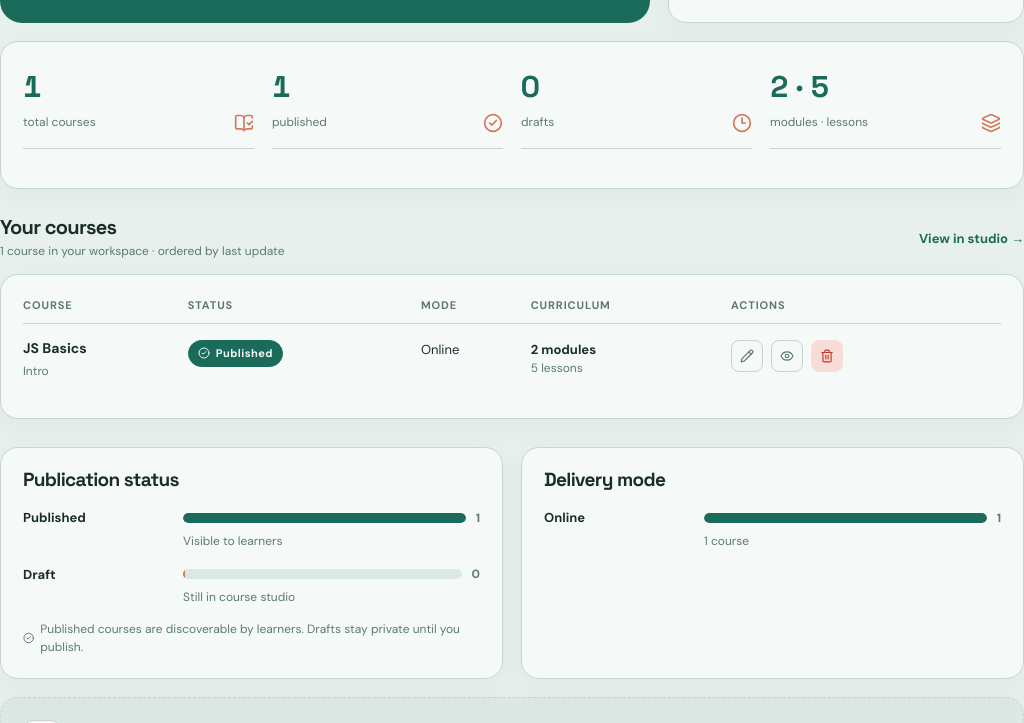
Test: ProviderDashboardPage › deletes a course after confirm
(page scrolled)
Expected: the text "JS Basics" is shown, left=23, top=339, right=87, bottom=357
Click the button named "Delete JS Basics". click: [827, 356]
box: left=811, top=340, right=843, bottom=372
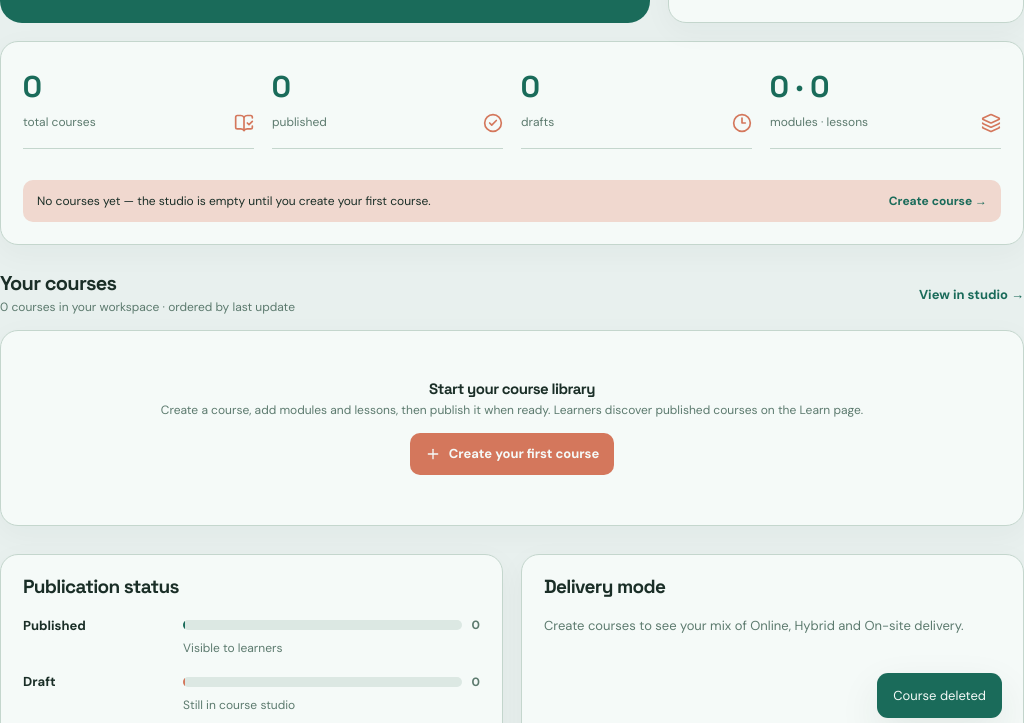
Expected: the text "Course deleted" is shown, left=877, top=672, right=1002, bottom=718
Expected: the heading "Start your course library" is shown, left=429, top=379, right=595, bottom=398
